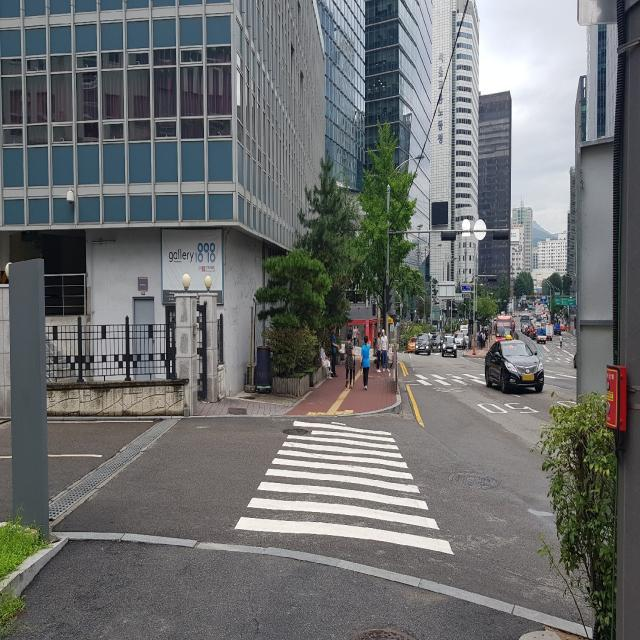횡단보도: (233, 418, 457, 559)
